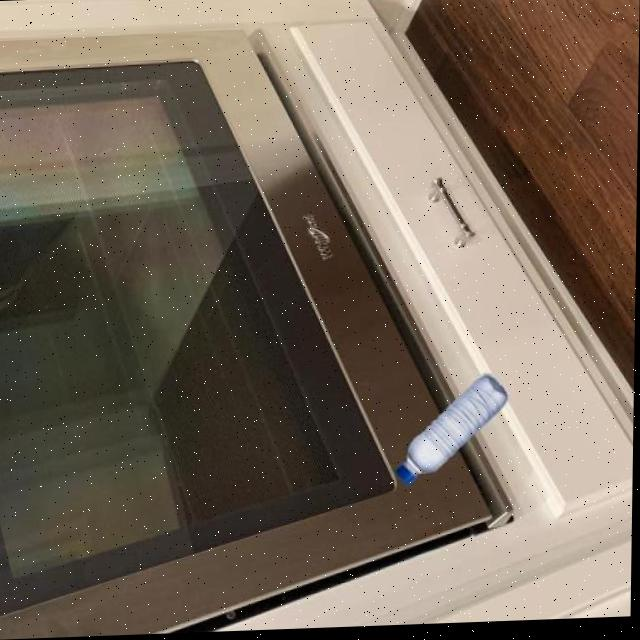bottle: (395, 378, 509, 490)
